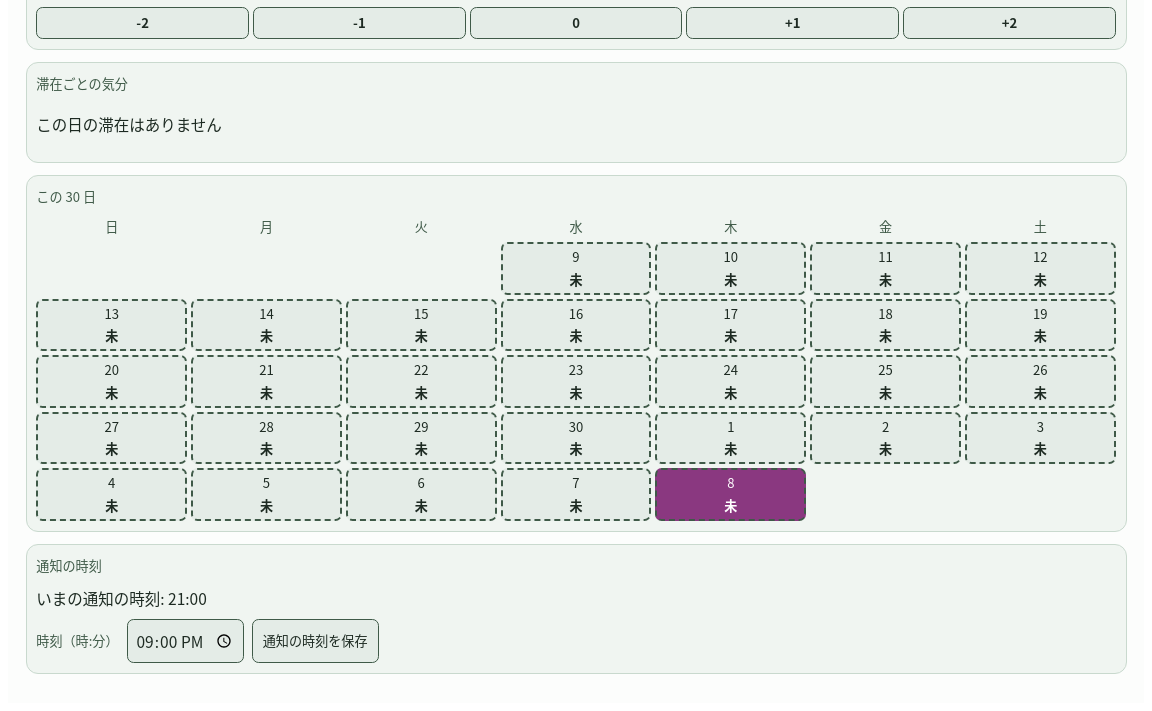
Test: 通知の時刻 › サーバに届かないとき、保存できなかったことが出て、欄は 22:30 のまま
(page scrolled)
Replace the text in the time field with test id "feel-reminder-at" with "22:30" at (185, 641), box [126, 619, 244, 663]
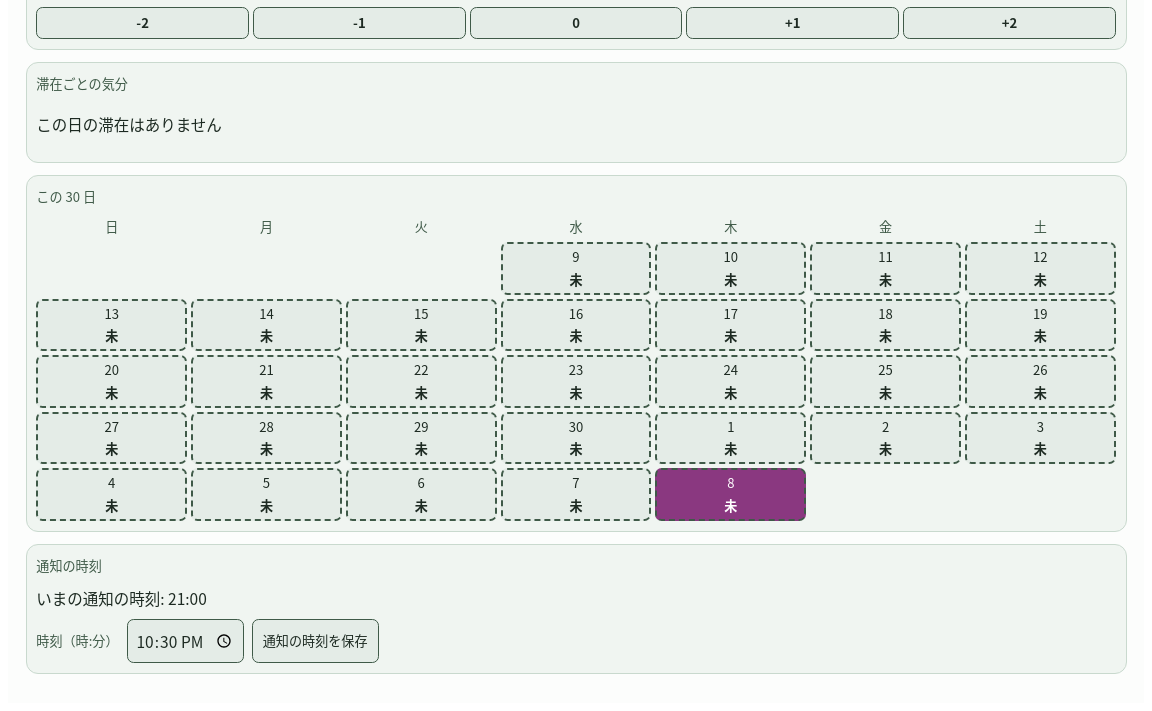
Click the button with test id "feel-reminder-save" at (315, 641), box [252, 619, 379, 663]
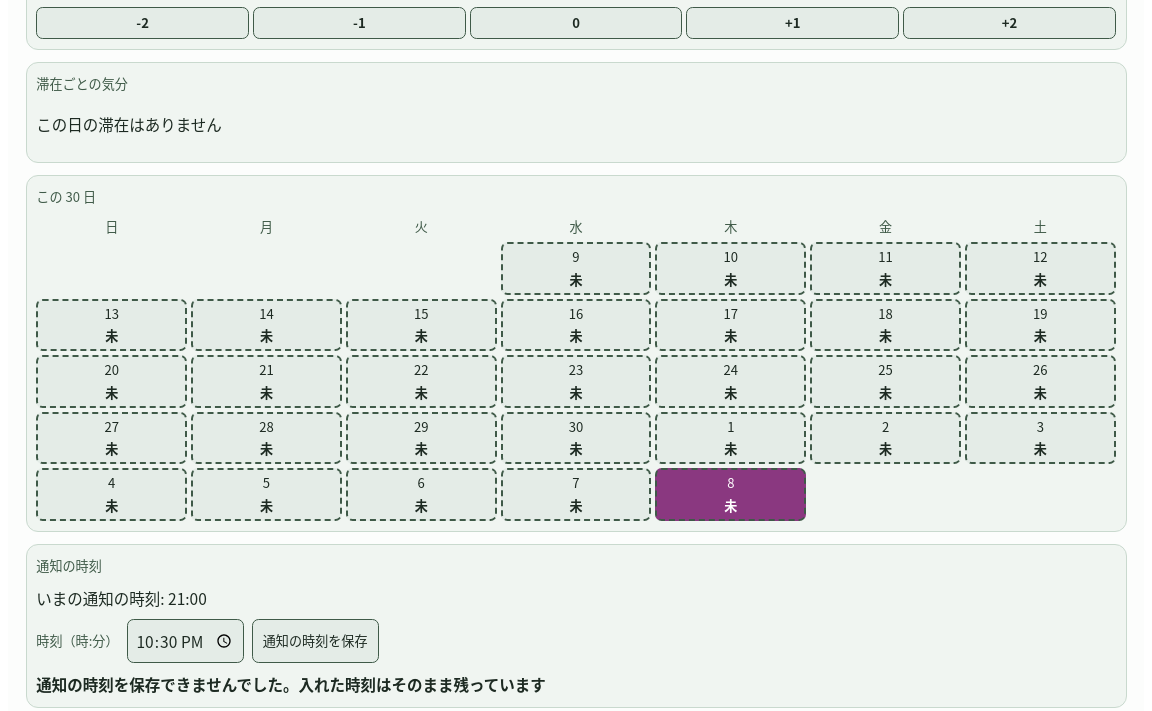
expect the text with test id "feel-reminder-current" reads "いまの通知の時刻: 21:00": met, box [36, 587, 207, 609]
expect the text with test id "feel-reminder-bad" shows "保存できませんでした": met, box [36, 673, 546, 695]
